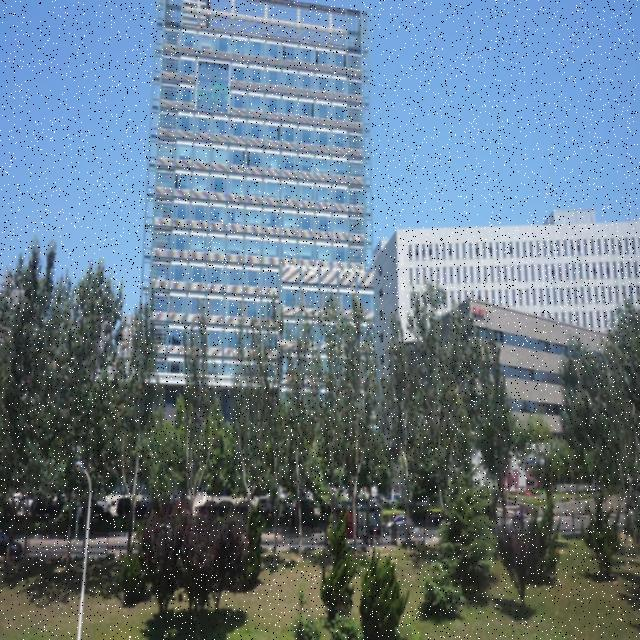UAV: (279, 340, 297, 350)
